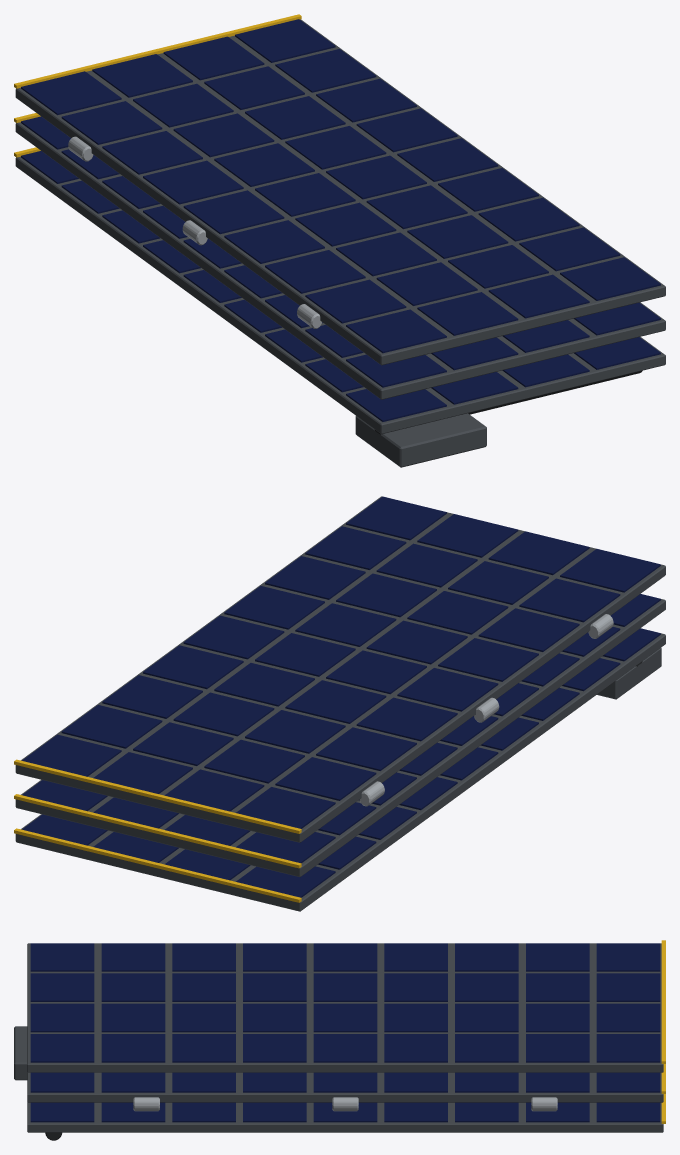
The model's file is folding_solar_array.glb.
3 renders of one model, top to bottom at view 1: azimuth 30°, elevation 25°; view 2: azimuth 150°, elevation 25°; view 3: azimuth 270°, elevation 25°, orthographic. The views are drawn at different scales.
Visible parts, largest first — view 1: panel_3, base, panel_2; view 2: panel_3, base, panel_2; view 3: panel_3, panel_2, base.
Boxes of the visible parts, bbox=[...] form: panel_3: bbox=[14, 14, 665, 365]; base: bbox=[14, 147, 665, 467]; panel_2: bbox=[14, 113, 665, 399]; panel_3: bbox=[14, 496, 665, 842]; base: bbox=[14, 628, 665, 911]; panel_2: bbox=[14, 594, 665, 876]; panel_3: bbox=[27, 940, 665, 1072]; panel_2: bbox=[27, 1064, 665, 1111]; base: bbox=[14, 1026, 665, 1140].
Size of the model in its own units: 1.4 by 0.5 by 3.
